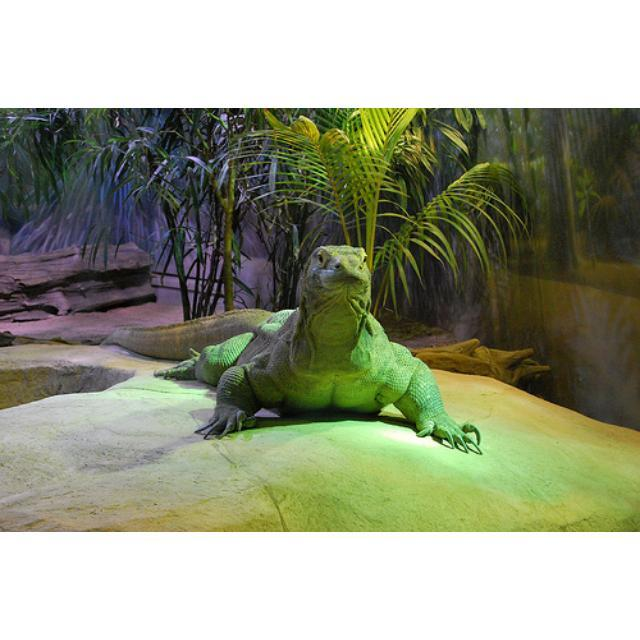KomodoDragon: (95, 242, 481, 455)
